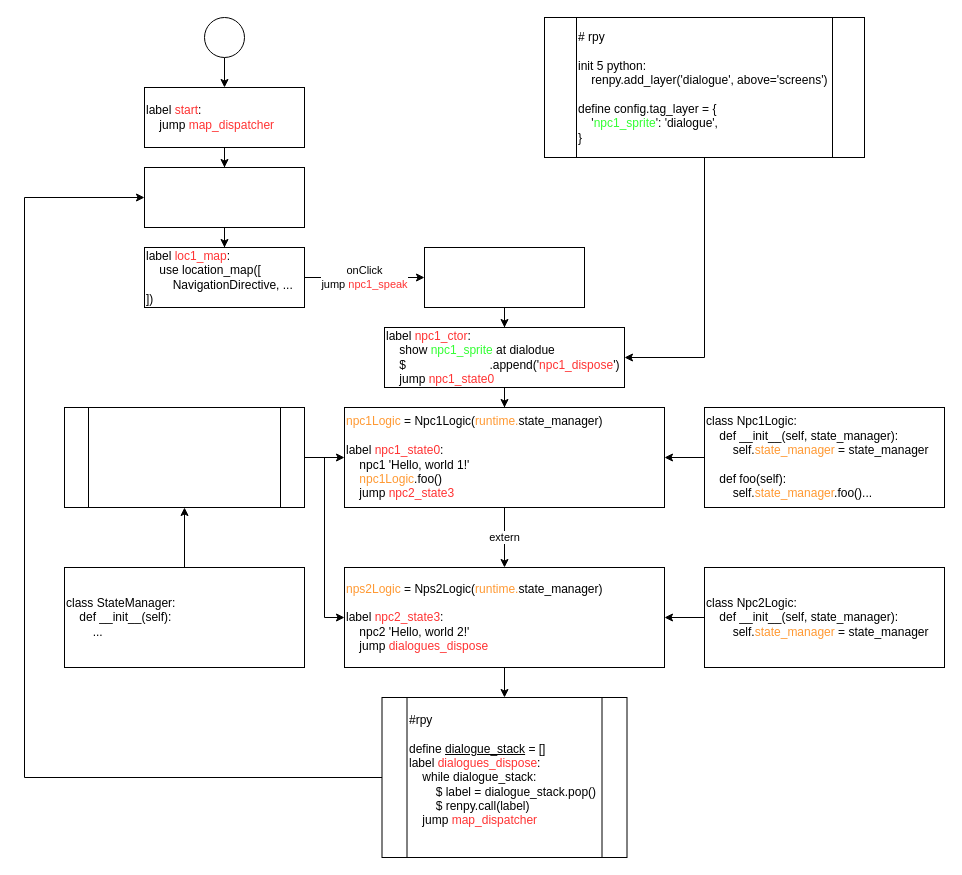
Image size: 962x875. Some labels were removed from this diagram. Here are the shapes that lost their labels. From the top down, the centre of each, then its label:
At point 224,197: "label map_dispatcher : if loc = 'loc1': jump loc1_map".
At point 504,277: "label npc1_speak : if ...: jump npc1_ctor".
At point 184,457: "# rpy init python: runtime .state_manager = StateManager()".
